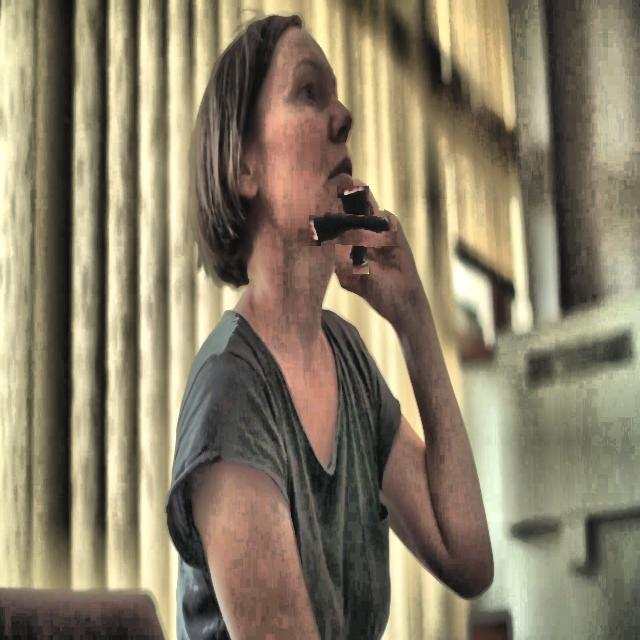Phone: (322, 199, 384, 261)
